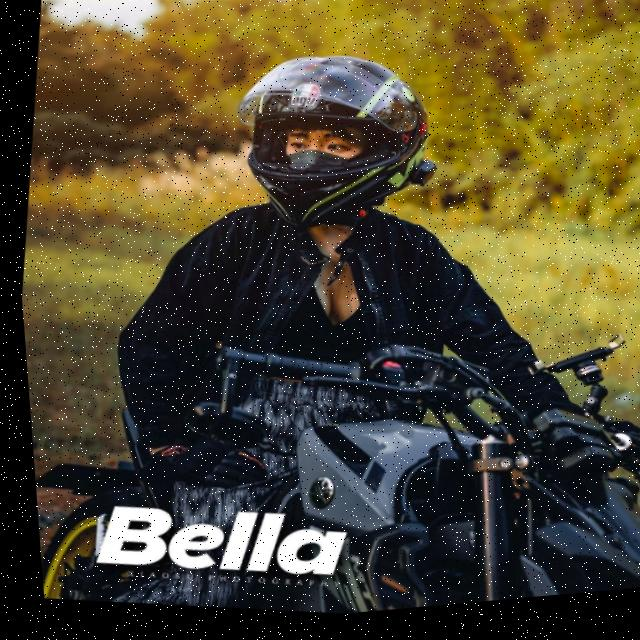helmet: (211, 37, 445, 260)
